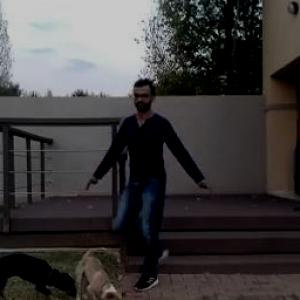land: (97, 92, 218, 290)
